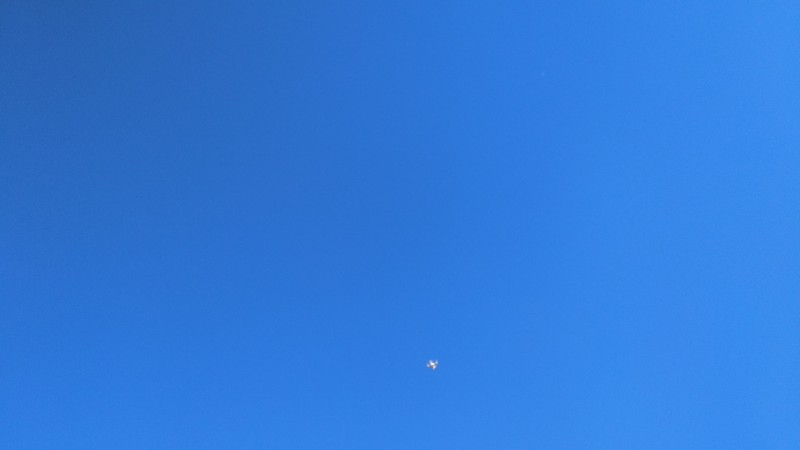drone: (425, 357, 439, 372)
